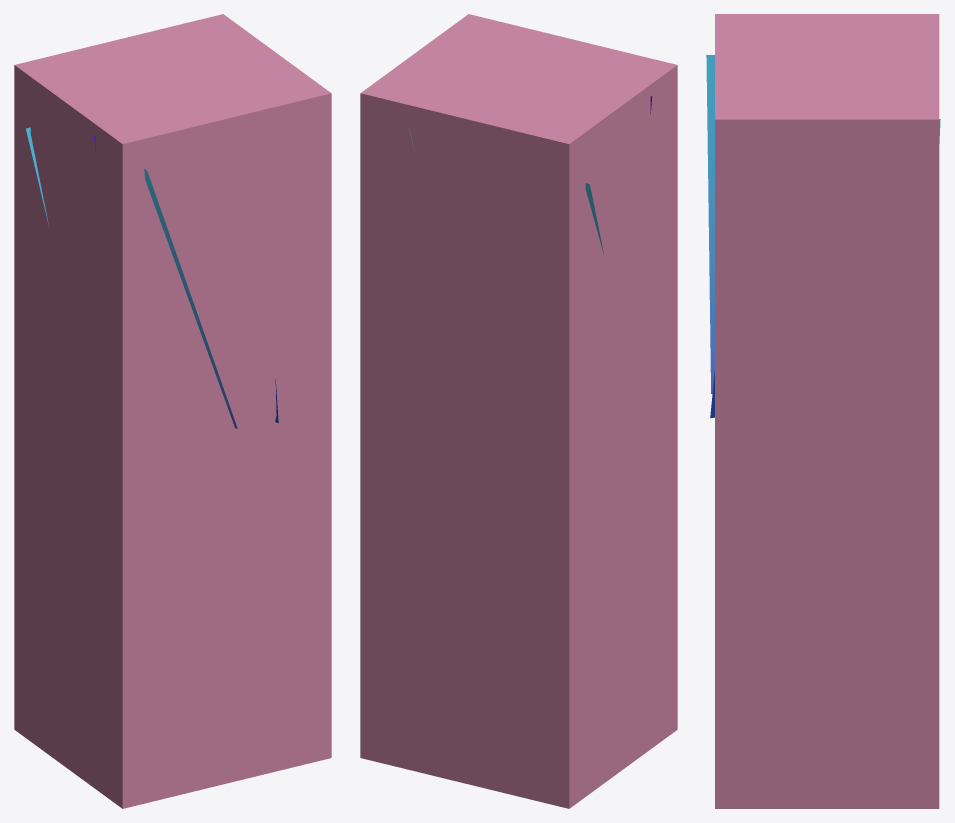
Rendered from tree_aspen_small_low.dae.
3 views of the same model, side by side, from view 1: azimuth 30°, elevation 25°; view 2: azimuth 150°, elevation 25°; view 3: azimuth 270°, elevation 25° (orthographic). The views are drawn at different scales.
Parts seen in each view (by area): view 1: Untitled, tree_oak_bush_a200; view 2: Untitled; view 3: Untitled, tree_oak_bush_a200.
Part boxes in pixels (<box>): Untitled: <box>14,14,331,808</box>; tree_oak_bush_a200: <box>26,127,278,428</box>; Untitled: <box>360,14,677,808</box>; Untitled: <box>715,14,939,808</box>; tree_oak_bush_a200: <box>706,54,940,418</box>.
Bounding box in the file's own units: 2.61 × 2.39 × 7.95.
